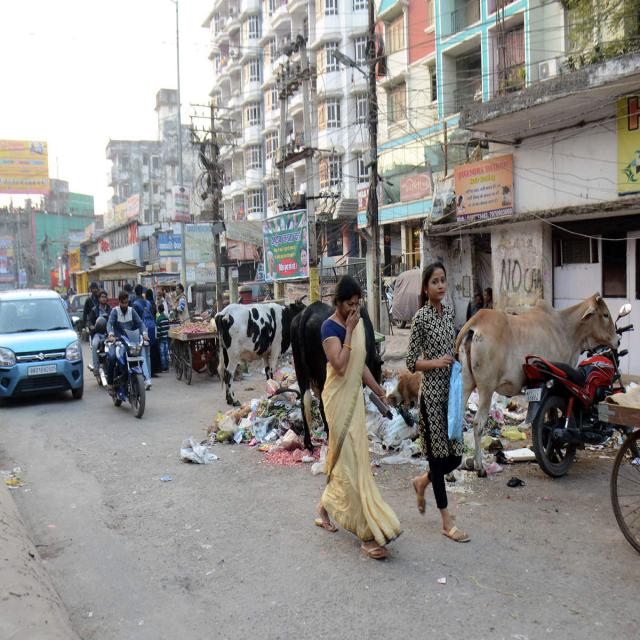garbage: (163, 373, 587, 521)
